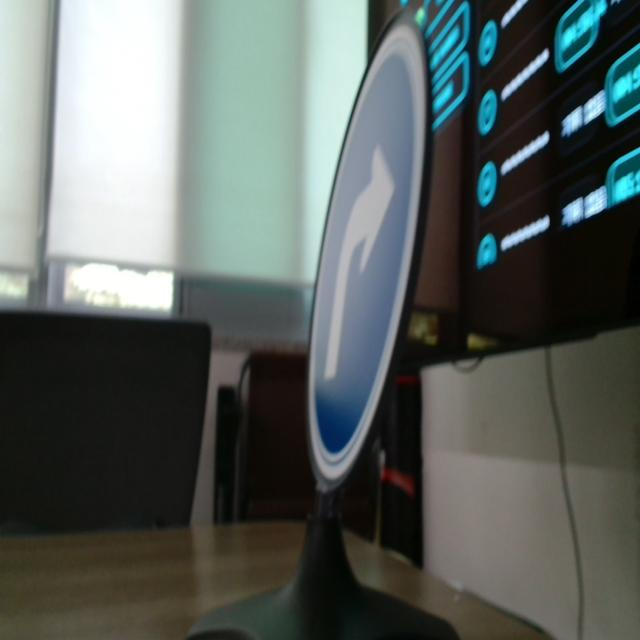right_dierection: (286, 18, 436, 493)
